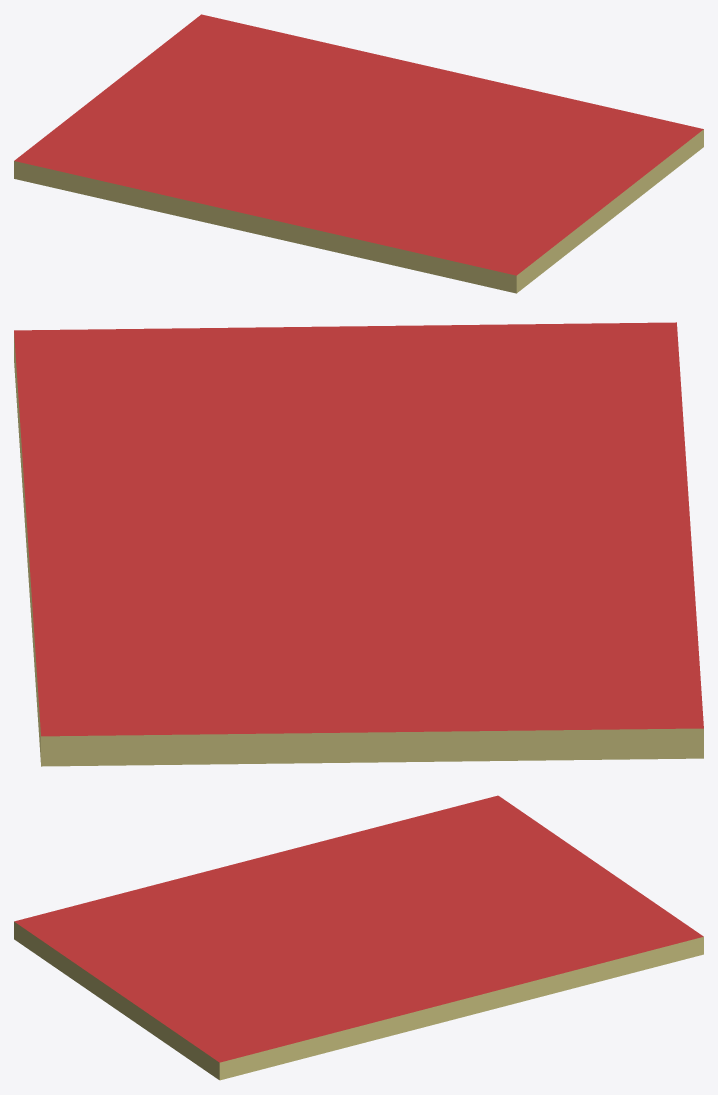
3 views of the same model, one above another, from view 1: azimuth 30°, elevation 25°; view 2: azimuth 150°, elevation 25°; view 3: azimuth 270°, elevation 25° (orthographic). The views are drawn at different scales.
Size of the model in its own units: 16.07 by 17.54 by 0.5.
